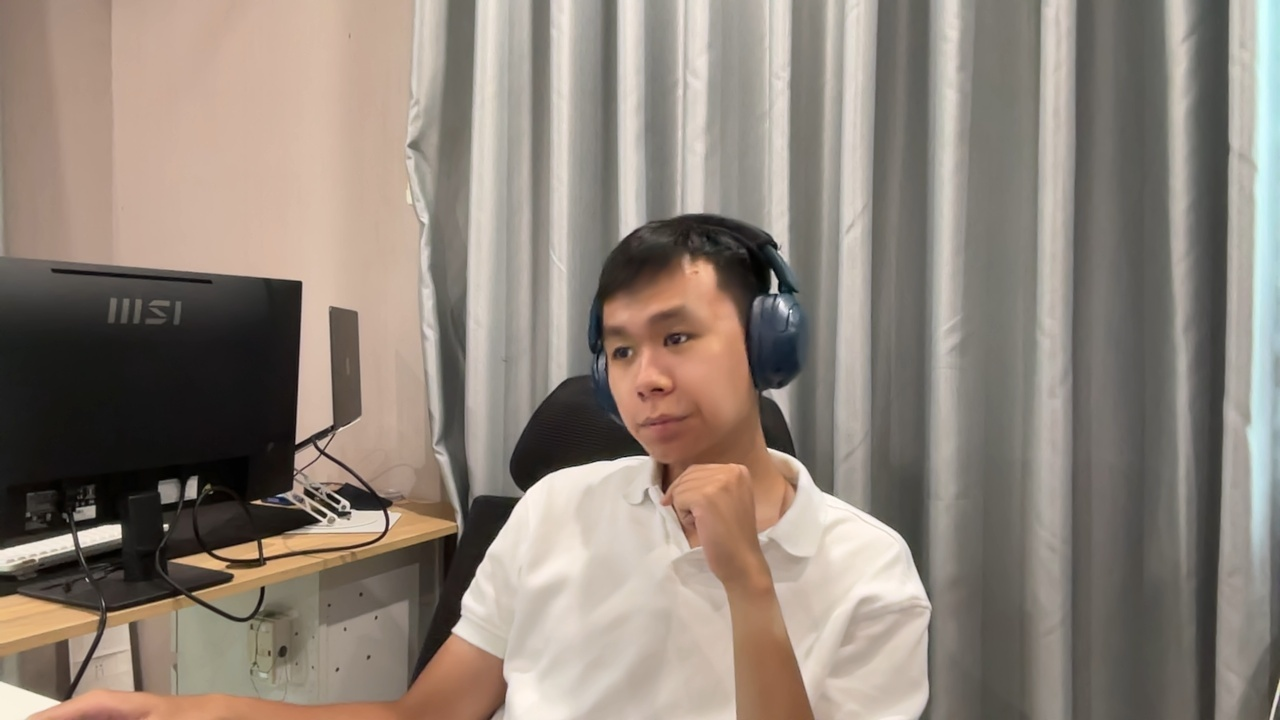over_ear: (598, 214, 805, 398)
